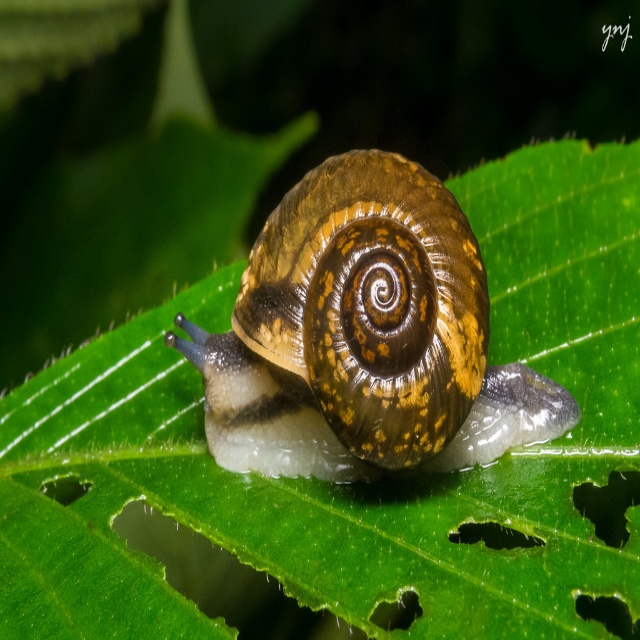Snail: (159, 144, 585, 490)
